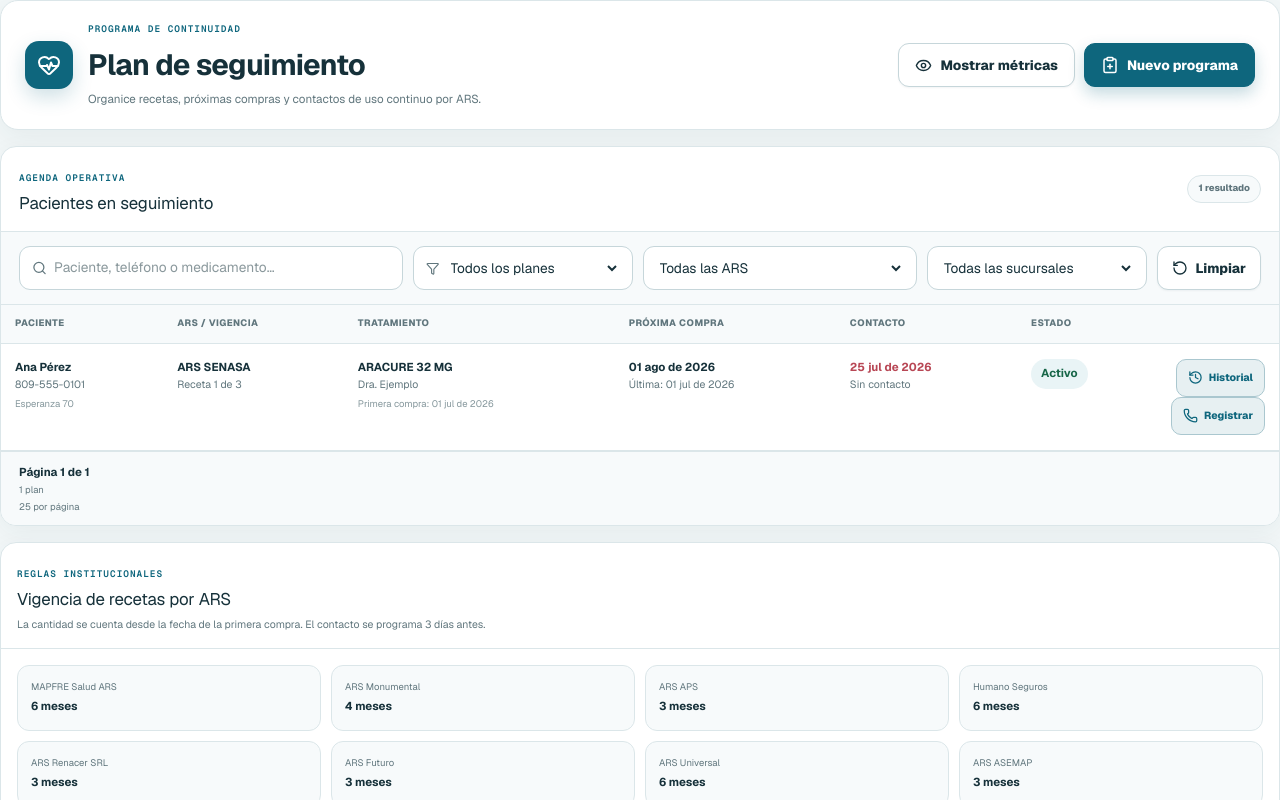
FollowUpWorkspace › exige datos de dispensación al registrar una compra
Click the button with aria-label "Registrar resultado de Ana Pérez" at (1218, 416), box [1171,396,1265,434]
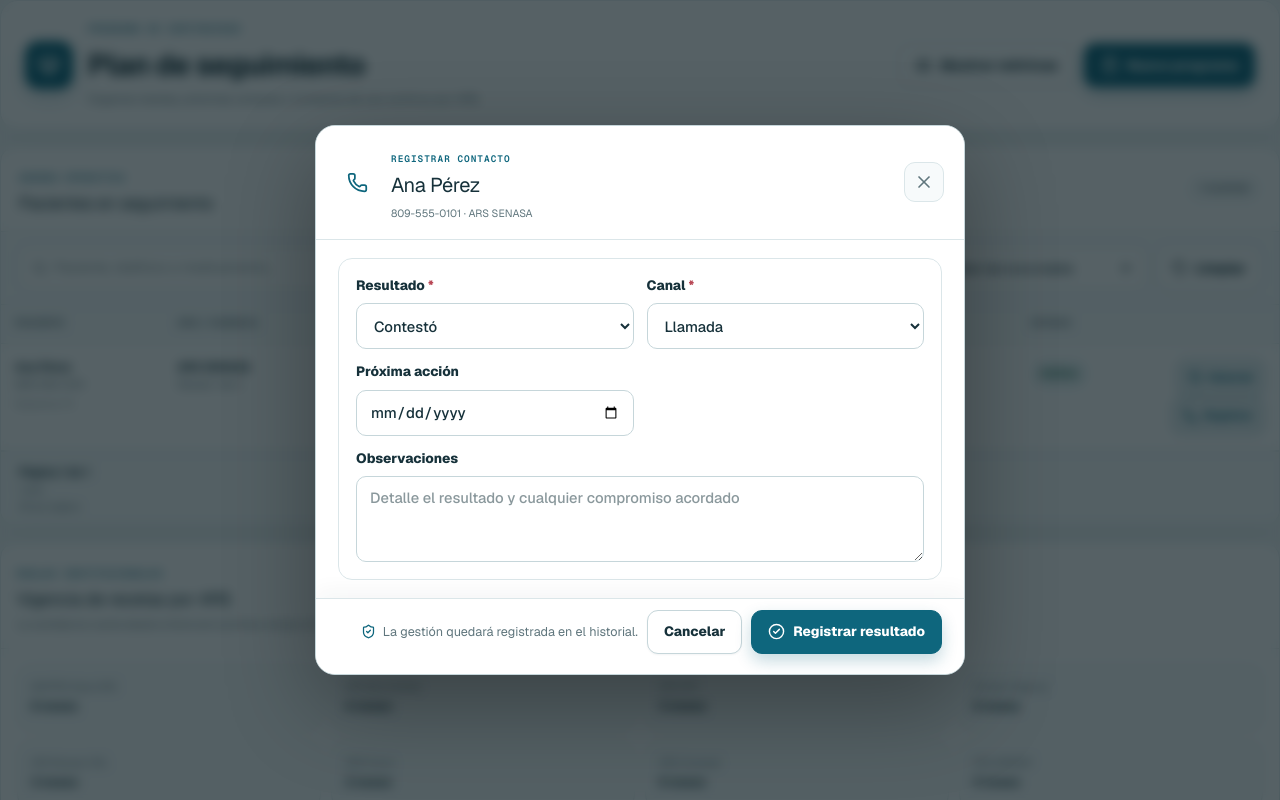
Select "Compró" in the dropdown labelled "Resultado" at (495, 326), box [356,303,634,349]
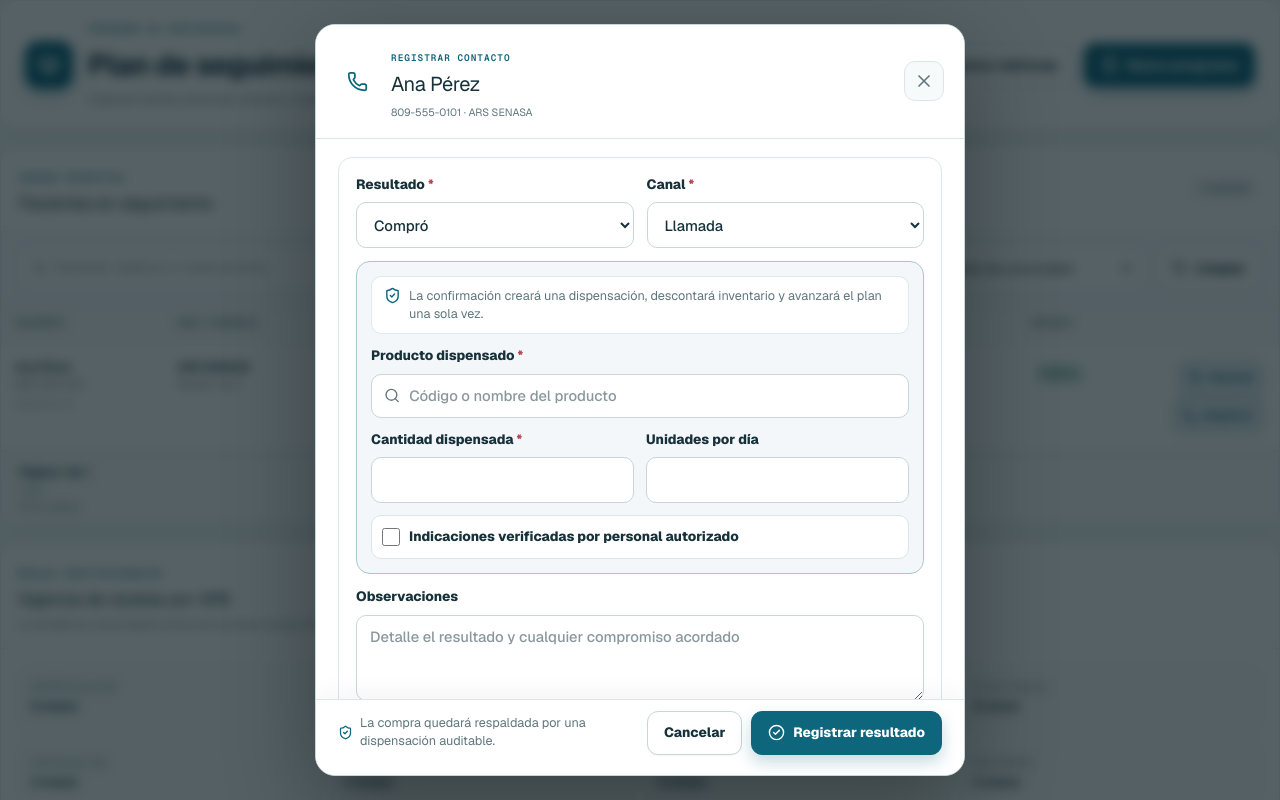
Check: the search field named "Buscar producto dispensado" is shown, box [409,374,896,416]
Check: the number field labelled "Unidades por día" is shown, box [646,457,909,503]
Check: the checkbox labelled "Indicaciones verificadas" is shown, box [382,528,400,546]
